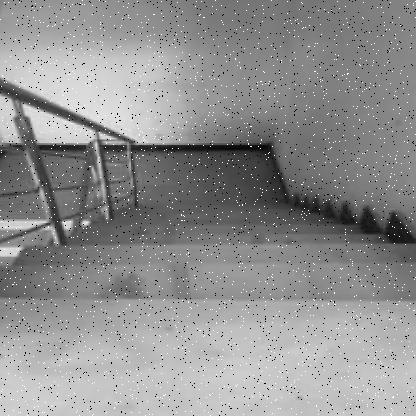stair_down: (71, 204, 343, 350)
